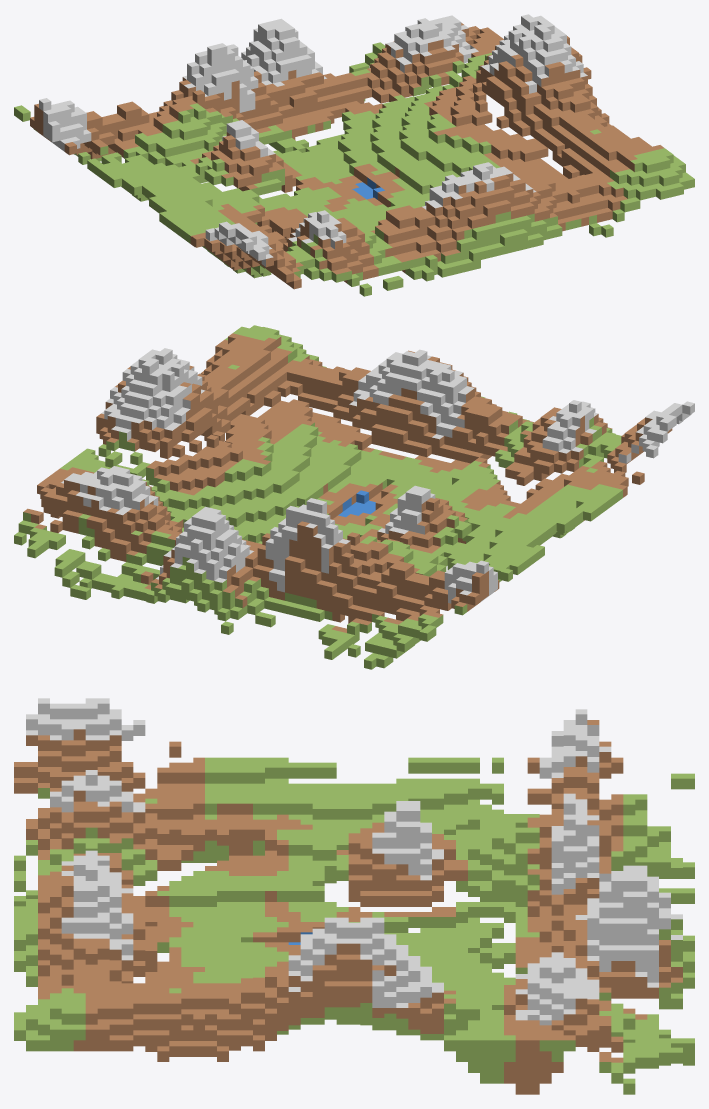
The model's file is Low-poly landscape by sirkitree - bjsNFfddgOv.glb.
3 views of the same model, one above another, from view 1: azimuth 30°, elevation 25°; view 2: azimuth 150°, elevation 25°; view 3: azimuth 270°, elevation 25° (orthographic). The views are drawn at different scales.
Visible parts, largest first — view 1: Grid_Voxelized; view 2: Grid_Voxelized; view 3: Grid_Voxelized.
Part boxes in pixels (x1=…): Grid_Voxelized: x1=14, y1=14, x2=694, y2=296; Grid_Voxelized: x1=14, y1=325, x2=694, y2=669; Grid_Voxelized: x1=14, y1=698, x2=694, y2=1094.
Bounding box in the file's own units: 19.86 × 6.62 × 19.86.
